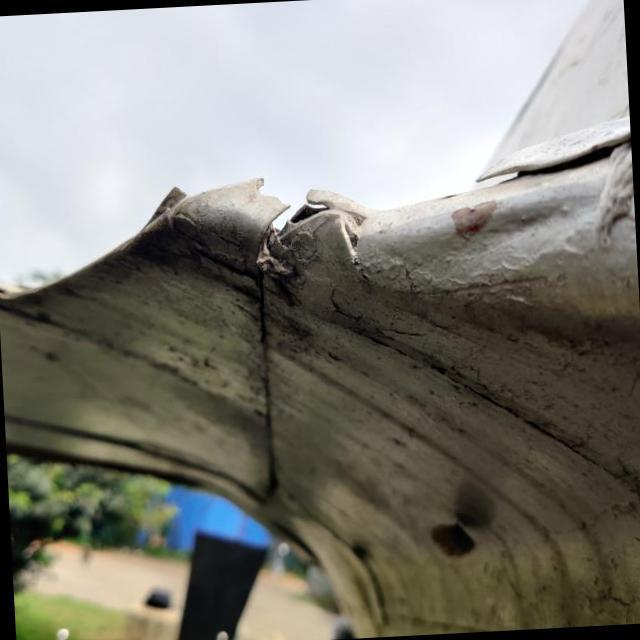Rupture: (246, 176, 356, 274), (128, 162, 252, 248)
